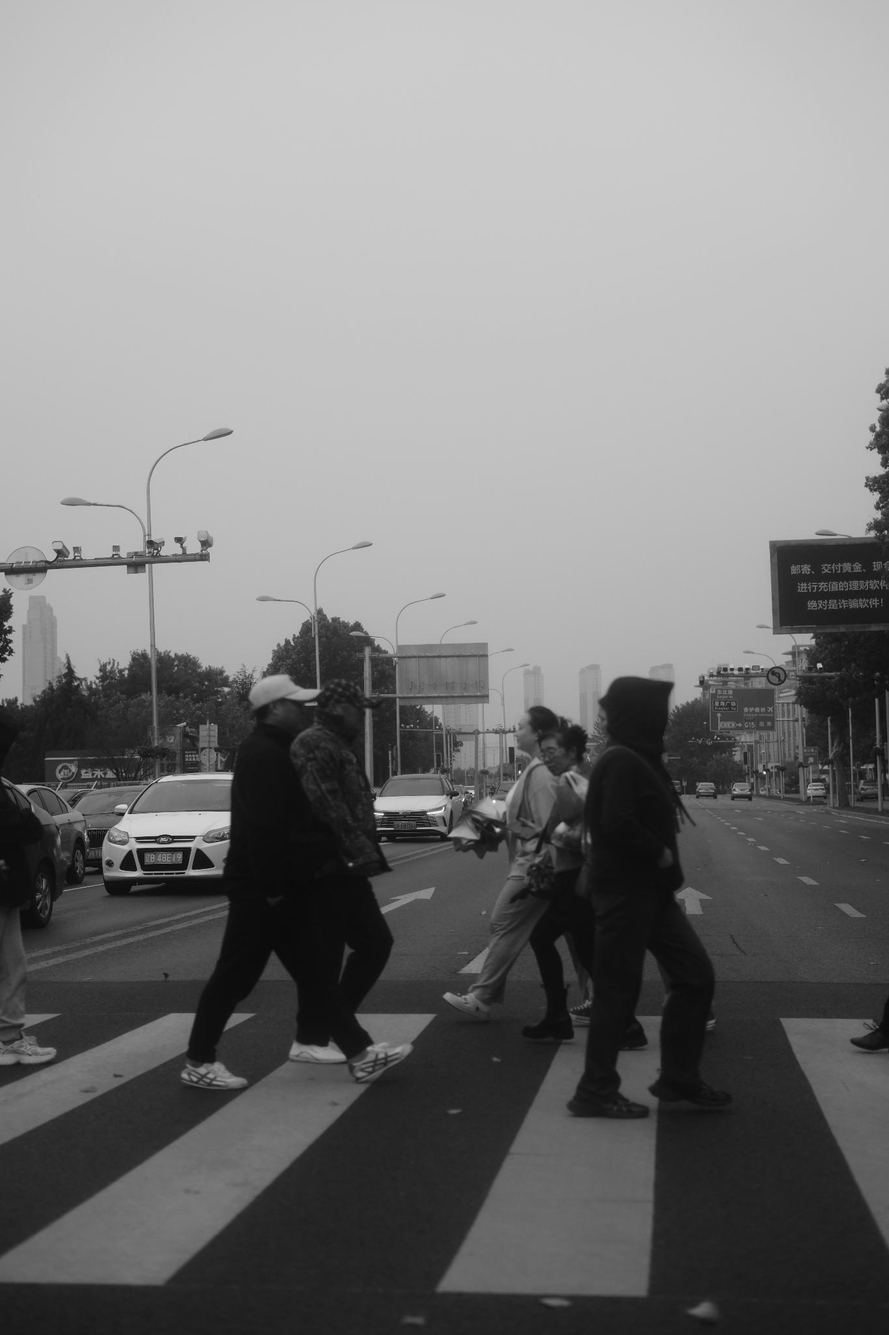car: (98, 776, 232, 900), (21, 785, 89, 891), (375, 770, 460, 836), (76, 788, 143, 866), (694, 783, 716, 801), (732, 785, 753, 801)
pedestrian: (176, 678, 394, 1093), (567, 671, 727, 1114), (450, 712, 591, 1031), (284, 687, 394, 1031), (524, 715, 598, 1039), (0, 753, 59, 1060)
